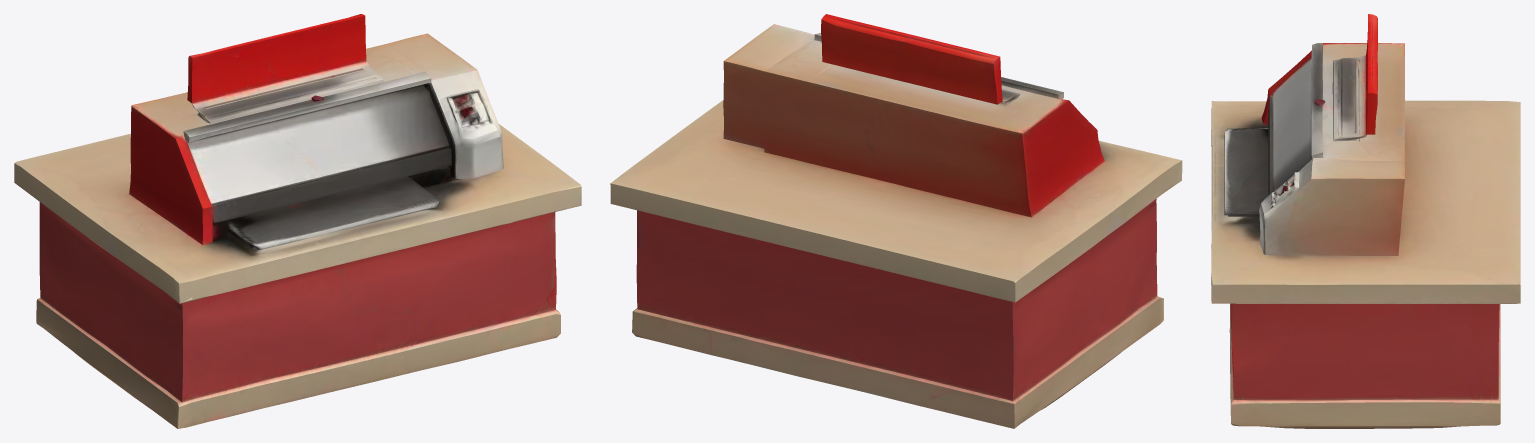
Rendered from restaurantCounterPlainT.glb.
3 views of the same model, side by side, from view 1: azimuth 30°, elevation 25°; view 2: azimuth 150°, elevation 25°; view 3: azimuth 270°, elevation 25° (orthographic). The views are drawn at different scales.
Visible parts, largest first — view 1: model; view 2: model; view 3: model.
Part boxes in pixels (x1=…): model: x1=14, y1=14, x2=581, y2=428; model: x1=610, y1=14, x2=1182, y2=428; model: x1=1211, y1=14, x2=1520, y2=428.
Bounding box in the file's own units: 1.9 × 1.36 × 1.35.
1 material, 1 textured.
